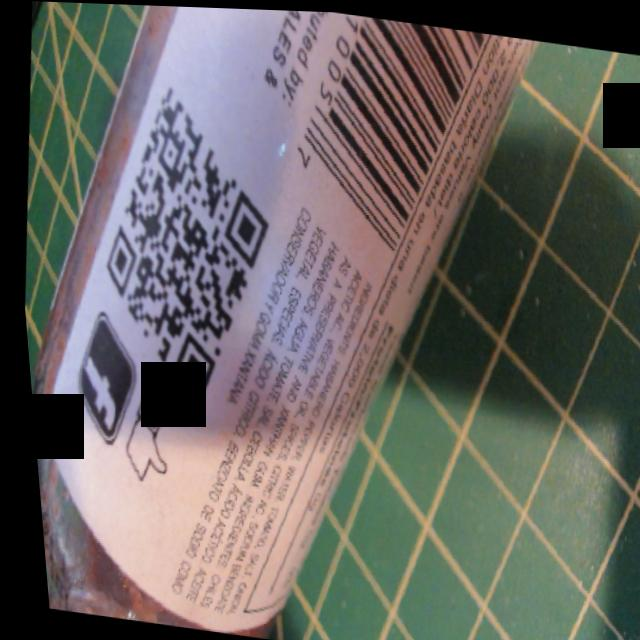QR_CODE: (63, 58, 303, 428)
